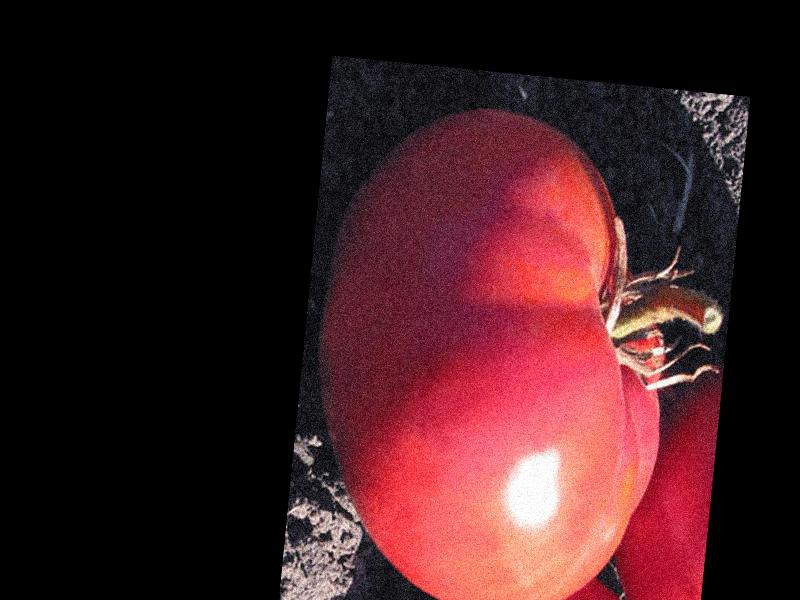Tomato: (294, 94, 687, 600)
